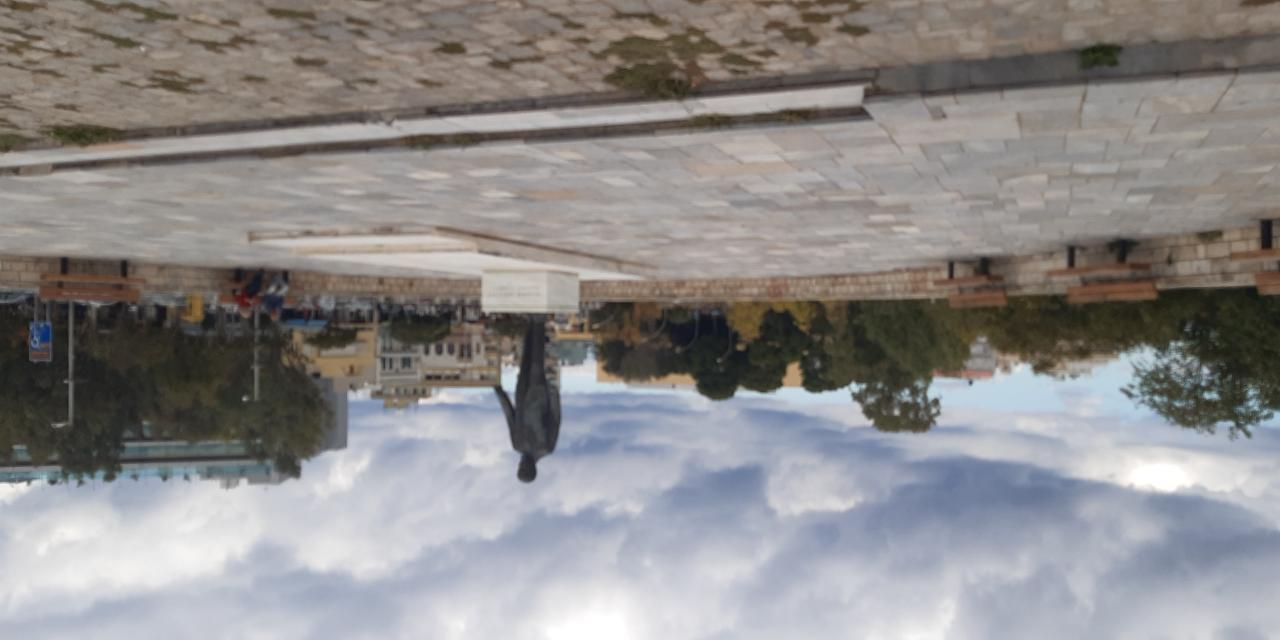Venizelos: (493, 314, 564, 485)
